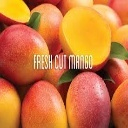mango: (59, 5, 113, 71)
